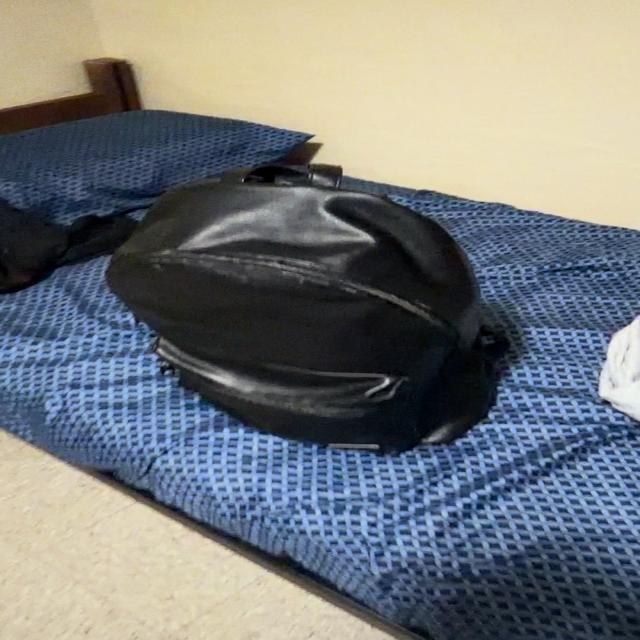backpack: (108, 166, 494, 452), (0, 199, 136, 293)
